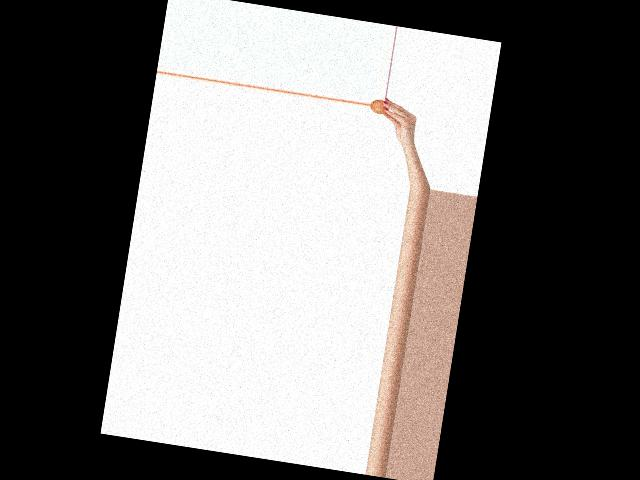egg: (369, 98, 389, 115)
